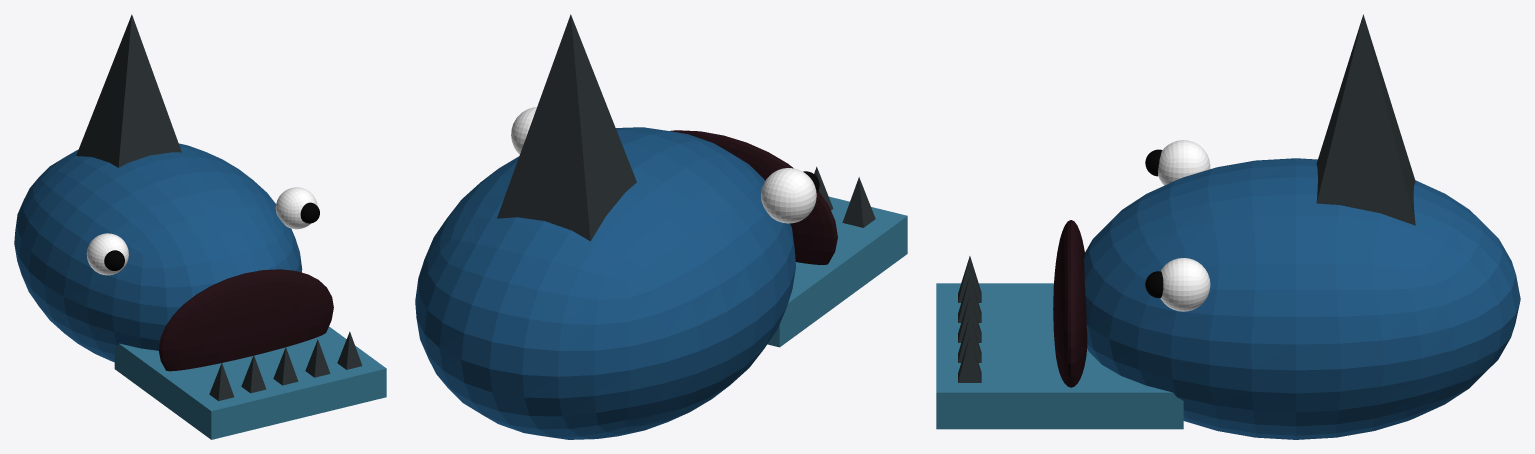
Rendered from MOV_MONSTER_FISH_JAW_02.obj.
3 renders of one model, left to right at view 1: azimuth 30°, elevation 25°; view 2: azimuth 150°, elevation 25°; view 3: azimuth 270°, elevation 25°, orthographic. The views are drawn at different scales.
Parts seen in each view (by area): view 1: Part_0, Part_2, Part_1, Part_12, Part_8, Part_10, Part_6, Part_3, Part_4, Part_5, Part_7; view 2: Part_0, Part_12, Part_2, Part_1, Part_10, Part_7, Part_8; view 3: Part_0, Part_2, Part_12, Part_1, Part_8, Part_10, Part_3.
Part boxes in pixels (x1,y1,x2,y2): Part_0: (14, 143, 302, 362); Part_2: (114, 326, 386, 439); Part_1: (158, 269, 333, 371); Part_12: (76, 14, 181, 167); Part_8: (275, 187, 317, 229); Part_10: (86, 233, 128, 275); Part_6: (241, 355, 266, 393); Part_3: (337, 331, 362, 369); Part_4: (305, 339, 330, 377); Part_5: (273, 347, 298, 385); Part_7: (209, 363, 234, 400); Part_0: (415, 127, 795, 439); Part_12: (497, 14, 636, 241); Part_2: (767, 196, 907, 347); Part_1: (670, 130, 837, 264); Part_10: (761, 168, 816, 223); Part_7: (842, 177, 875, 227); Part_8: (511, 107, 536, 154); Part_0: (1084, 158, 1520, 439); Part_2: (936, 283, 1183, 429); Part_12: (1316, 14, 1415, 225); Part_1: (1053, 220, 1087, 387); Part_8: (1160, 258, 1210, 311); Part_10: (1158, 140, 1210, 185); Part_3: (958, 335, 981, 382).
Bounding box in the file's own units: 1.5 × 2 × 2.6.
